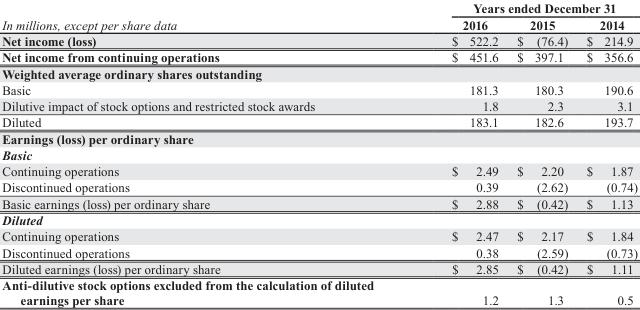table: (1, 0, 637, 307)
table column: (1, 0, 412, 307), (412, 0, 507, 307), (507, 0, 576, 307), (576, 0, 637, 307)
table column header: (1, 0, 637, 32)
table projected row header: (1, 65, 637, 81), (1, 130, 637, 146), (1, 146, 637, 162), (1, 211, 637, 227)
table row: (1, 276, 637, 307), (1, 48, 637, 65), (1, 113, 637, 130), (1, 178, 637, 195), (1, 227, 637, 244), (1, 0, 637, 16), (1, 16, 637, 32), (1, 32, 637, 48), (1, 65, 637, 81), (1, 81, 637, 97), (1, 97, 637, 113), (1, 130, 637, 146), (1, 146, 637, 162), (1, 162, 637, 178), (1, 195, 637, 211), (1, 211, 637, 227), (1, 244, 637, 260), (1, 260, 637, 276)
table spanning cell: (1, 0, 412, 32), (412, 0, 637, 16)
